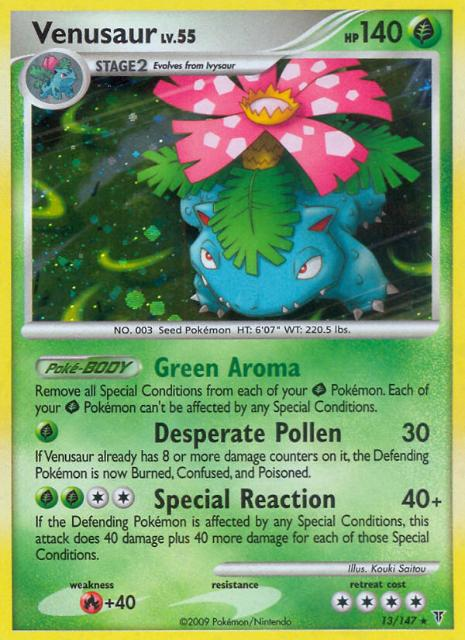Card: (0, 0, 465, 640), (465, 273, 465, 503)
Name: (28, 16, 159, 48)
